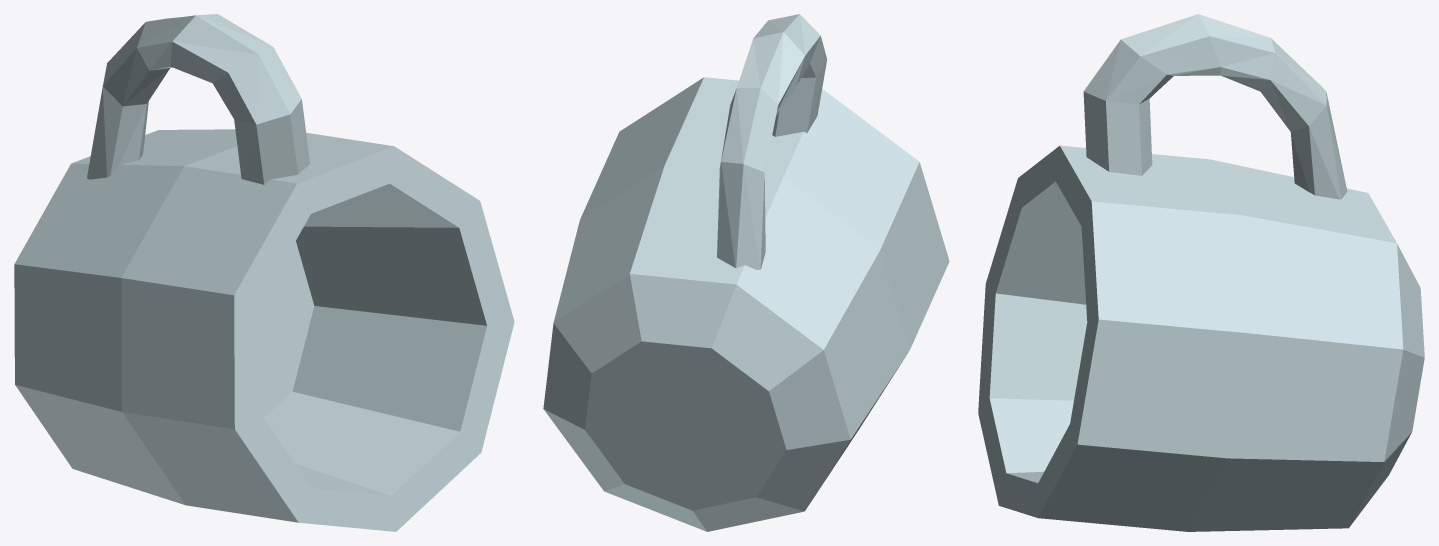
The model's file is cup.glb.
The picture shows the model from 3 angles, left to right: view 1: azimuth 30°, elevation 25°; view 2: azimuth 150°, elevation 25°; view 3: azimuth 270°, elevation 25°; orthographic projection. The views are drawn at different scales.
Parts seen in each view (by area): view 1: cup; view 2: cup; view 3: cup.
Boxes of the visible parts, left/top/right/bottom form: cup: left=14, top=14, right=514, bottom=531; cup: left=543, top=14, right=949, bottom=531; cup: left=978, top=14, right=1424, bottom=531.
Bounding box in the file's own units: 0.1551 × 0.1978 × 0.1628.
